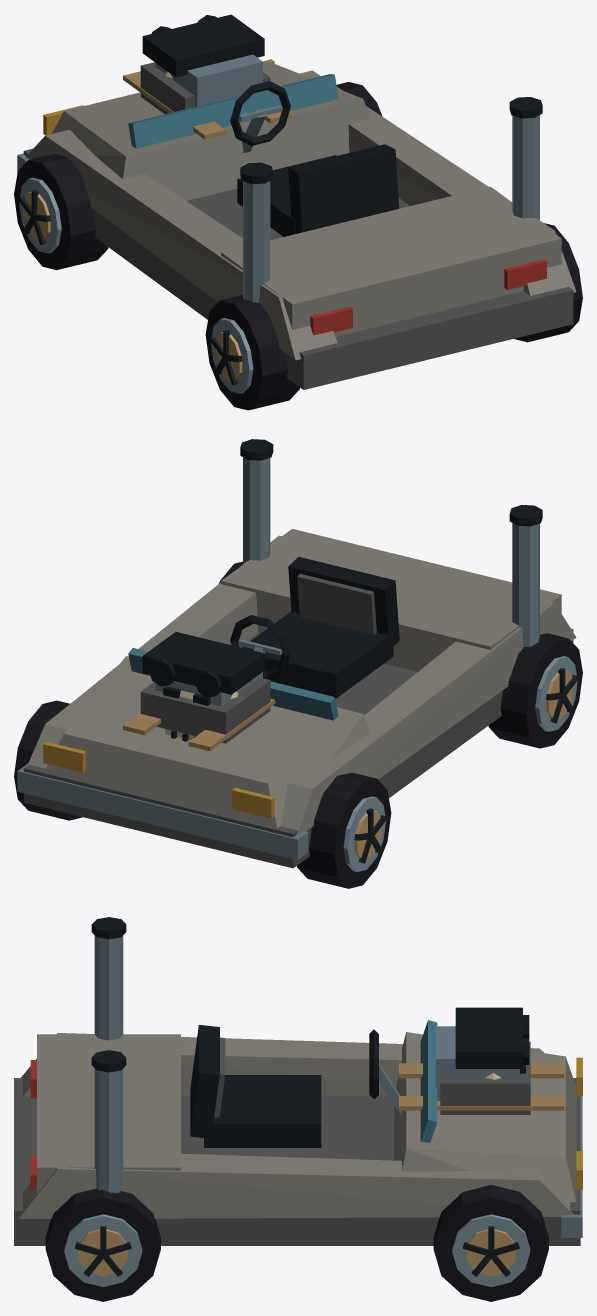
File: kart.glb
The picture shows the model from 3 angles, top to bottom: view 1: azimuth 30°, elevation 25°; view 2: azimuth 150°, elevation 25°; view 3: azimuth 270°, elevation 25°; orthographic projection.
Visible parts, largest first — view 1: identity-muscle-car-muscle-car-road-car-body, identity-muscle-car-driver-cockpit, identity-muscle-car-motif-blower, wheel-front-left, wheel-rear-left, identity-muscle-car-motif-exhaust, wheel-rear-right, wheel-front-right; view 2: identity-muscle-car-muscle-car-road-car-body, identity-muscle-car-driver-cockpit, wheel-front-left, wheel-rear-left, identity-muscle-car-motif-exhaust, identity-muscle-car-motif-blower, wheel-front-right, identity-muscle-car-motif-skull; view 3: identity-muscle-car-muscle-car-road-car-body, identity-muscle-car-driver-cockpit, wheel-front-right, wheel-rear-right, identity-muscle-car-motif-exhaust, identity-muscle-car-motif-blower.
Boxes of the visible parts, x1,y1,x2,y2 form: identity-muscle-car-muscle-car-road-car-body: (17,59,576,389); identity-muscle-car-driver-cockpit: (230,81,399,236); identity-muscle-car-motif-blower: (142,14,264,106); wheel-front-left: (14,154,108,270); wheel-rear-left: (205,295,299,410); identity-muscle-car-motif-exhaust: (240,97,542,302); wheel-rear-right: (514,223,582,342); wheel-front-right: (336,82,382,116); identity-muscle-car-muscle-car-road-car-body: (17,529,576,868); identity-muscle-car-driver-cockpit: (230,557,399,698); wheel-front-left: (297,772,391,888); wheel-rear-left: (488,633,582,748); identity-muscle-car-motif-exhaust: (240,439,542,646); identity-muscle-car-motif-blower: (142,632,264,706); wheel-front-right: (14,700,82,820); identity-muscle-car-motif-skull: (163,686,238,741); identity-muscle-car-muscle-car-road-car-body: (14,1020,582,1245); identity-muscle-car-driver-cockpit: (190,1025,401,1147); wheel-front-right: (433,1185,548,1301); wheel-rear-right: (45,1188,160,1301); identity-muscle-car-motif-exhaust: (91,917,126,1192); identity-muscle-car-motif-blower: (435,1007,529,1100).
Bounding box in the file's own units: 2.07 × 1.33 × 2.96.
